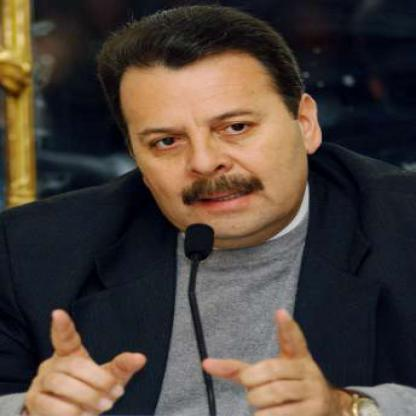face: (123, 20, 302, 243)
